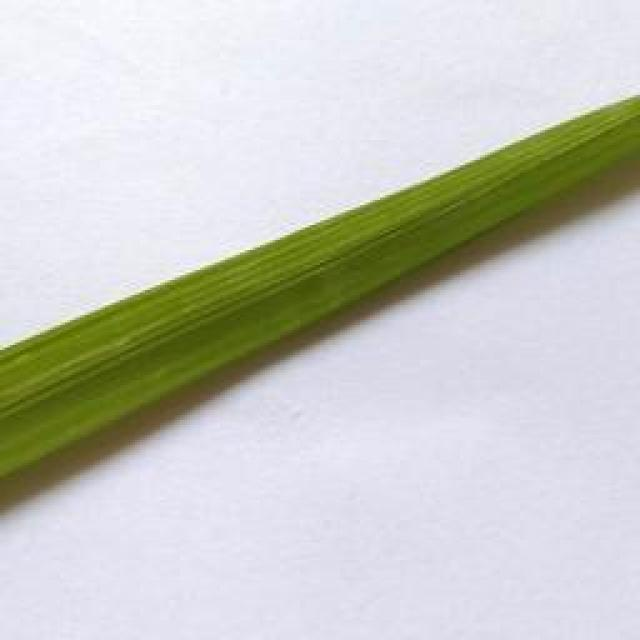Healthy-Plant: (0, 94, 640, 480)
